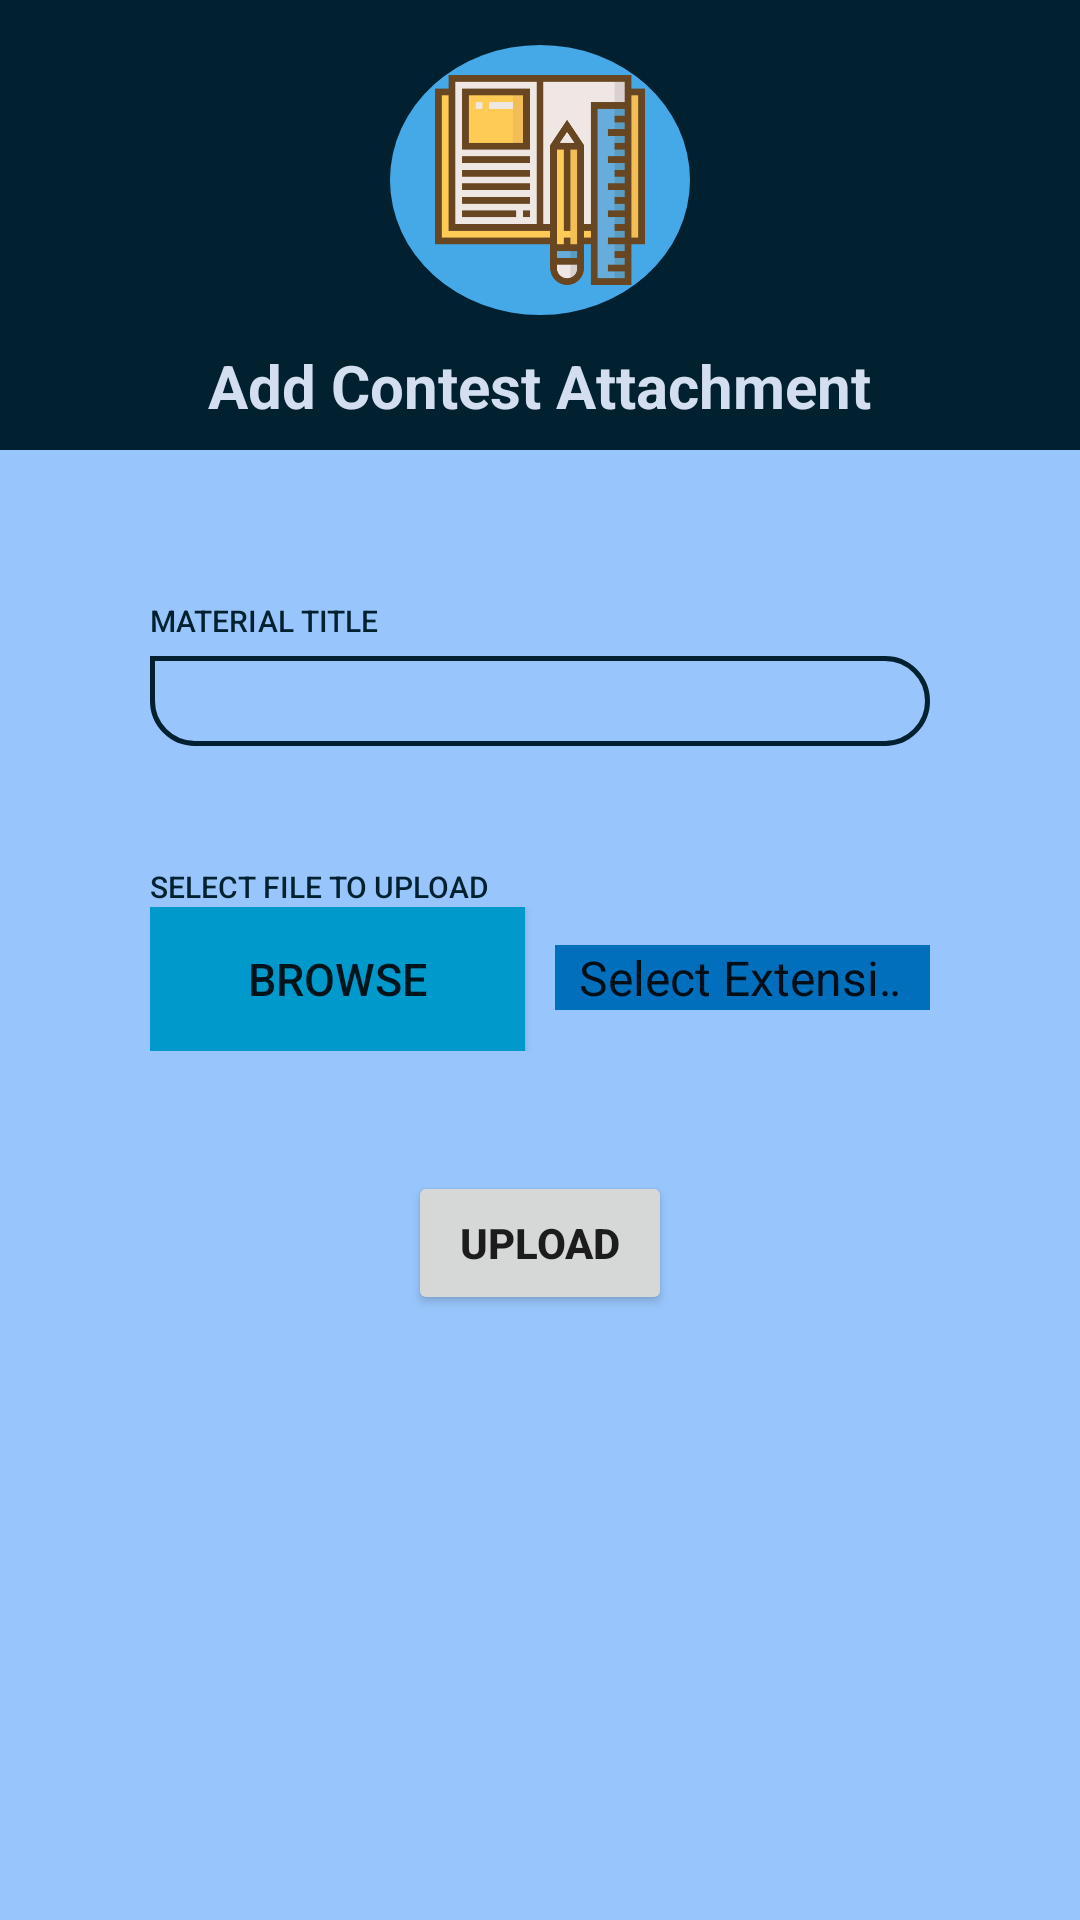

Named icons in this screenshot (1080px×1920px) and their centers, point (x, y):
book: point (540, 180)
